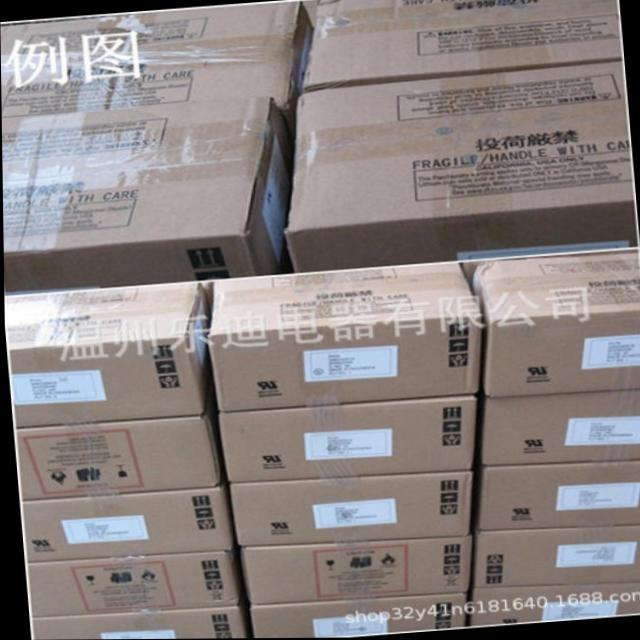box: (284, 62, 636, 271), (1, 97, 293, 293), (208, 261, 481, 410), (0, 3, 315, 124), (3, 284, 216, 430), (300, 0, 621, 92), (465, 252, 640, 396), (217, 398, 476, 483), (230, 471, 472, 547), (12, 413, 223, 500), (18, 486, 234, 563), (241, 536, 472, 606), (24, 549, 240, 617), (479, 391, 640, 465), (476, 461, 640, 530), (472, 527, 640, 589), (250, 593, 468, 639), (28, 605, 249, 640), (468, 583, 640, 626)
